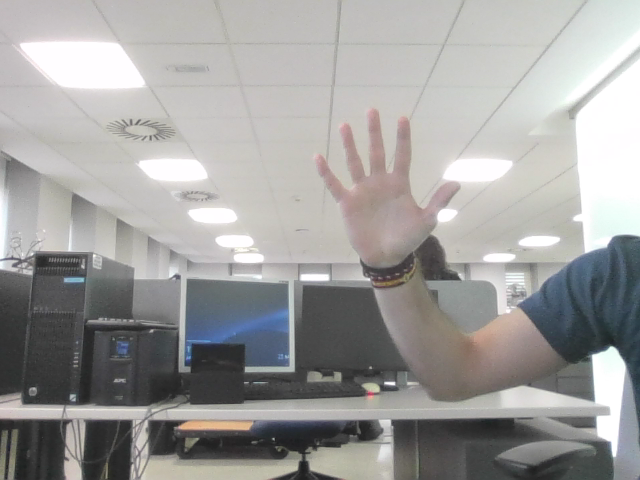Mano Abierta: (324, 120, 445, 236)
